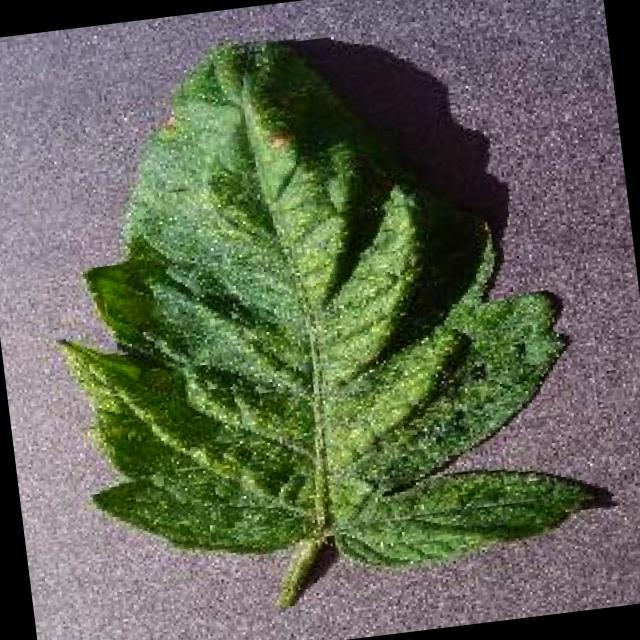Tomato spider mites leaf: (32, 6, 619, 604)
